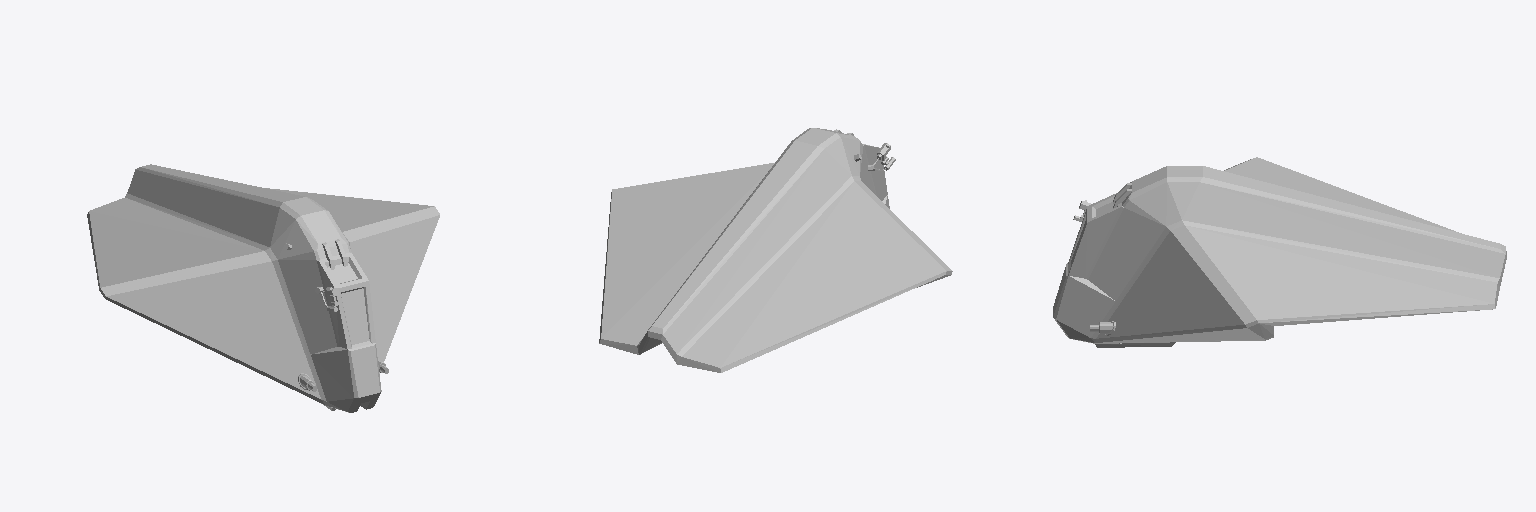
The model's file is oolite_moray.obj.
3 renders of one model, left to right at view 1: azimuth 30°, elevation 25°; view 2: azimuth 150°, elevation 25°; view 3: azimuth 270°, elevation 25°, orthographic.
Parts seen in each view (by area): view 1: mray.obj; view 2: mray.obj; view 3: mray.obj.
Boxes of the visible parts, x1=… form: mray.obj: x1=87, y1=164, x2=439, y2=412; mray.obj: x1=599, y1=128, x2=952, y2=372; mray.obj: x1=1053, y1=157, x2=1506, y2=347.
Size of the model in its own units: 59.36 by 28.71 by 69.7.